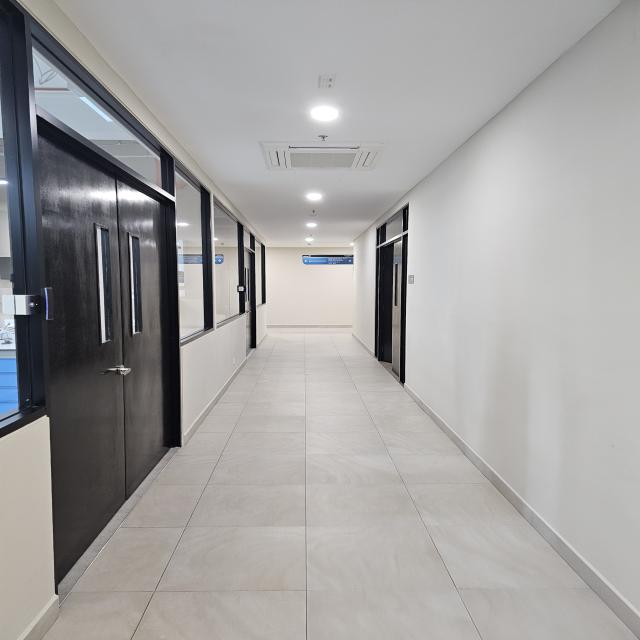door: (31, 113, 181, 594), (367, 238, 418, 384)
footpath: (176, 393, 542, 640)
